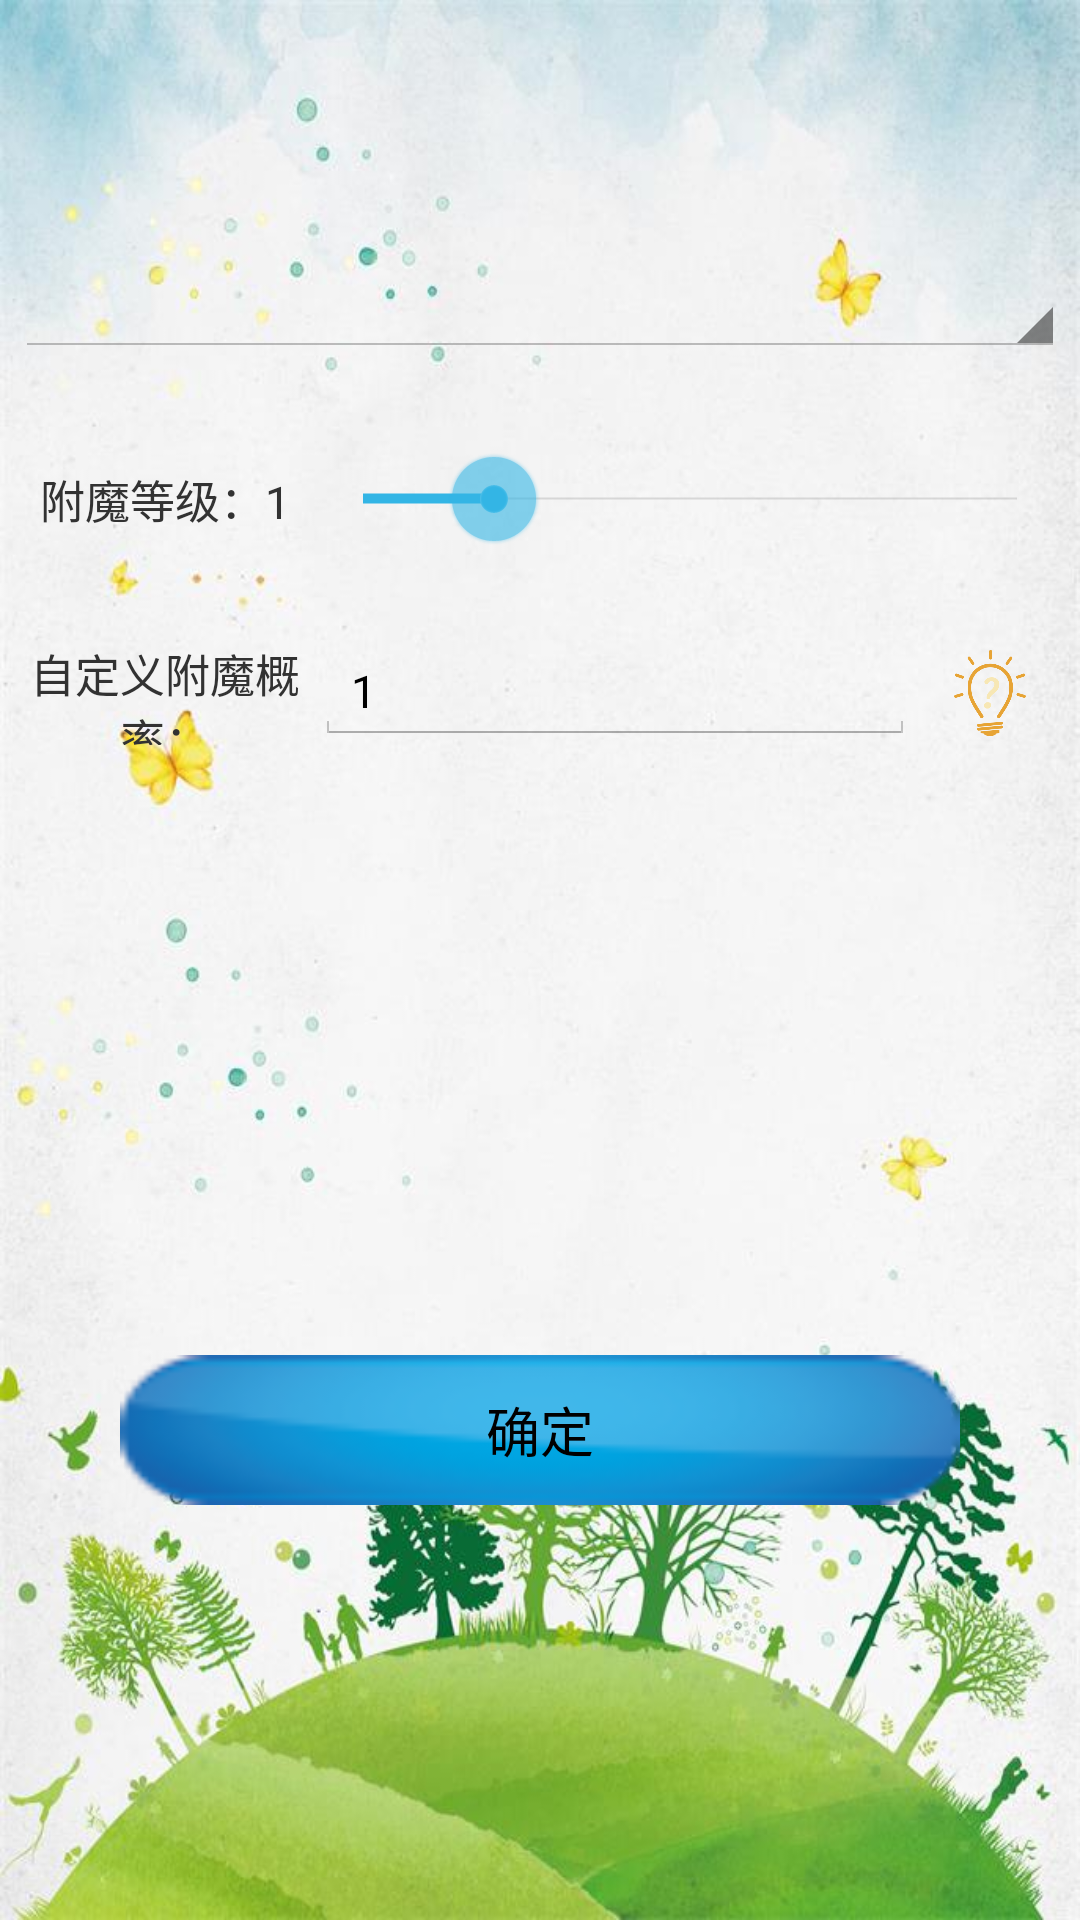

Where to tap for icons on this 1080×1920 app screen, as point (x, y):
这是什么: point (990, 693)
